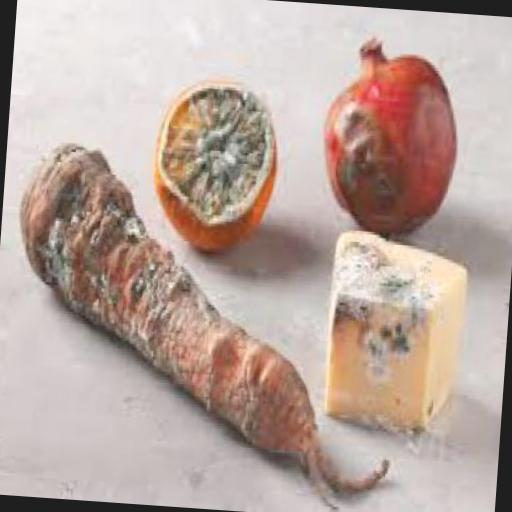biodegradable: (0, 137, 407, 499), (320, 226, 466, 434), (315, 33, 462, 237), (146, 72, 281, 256)
